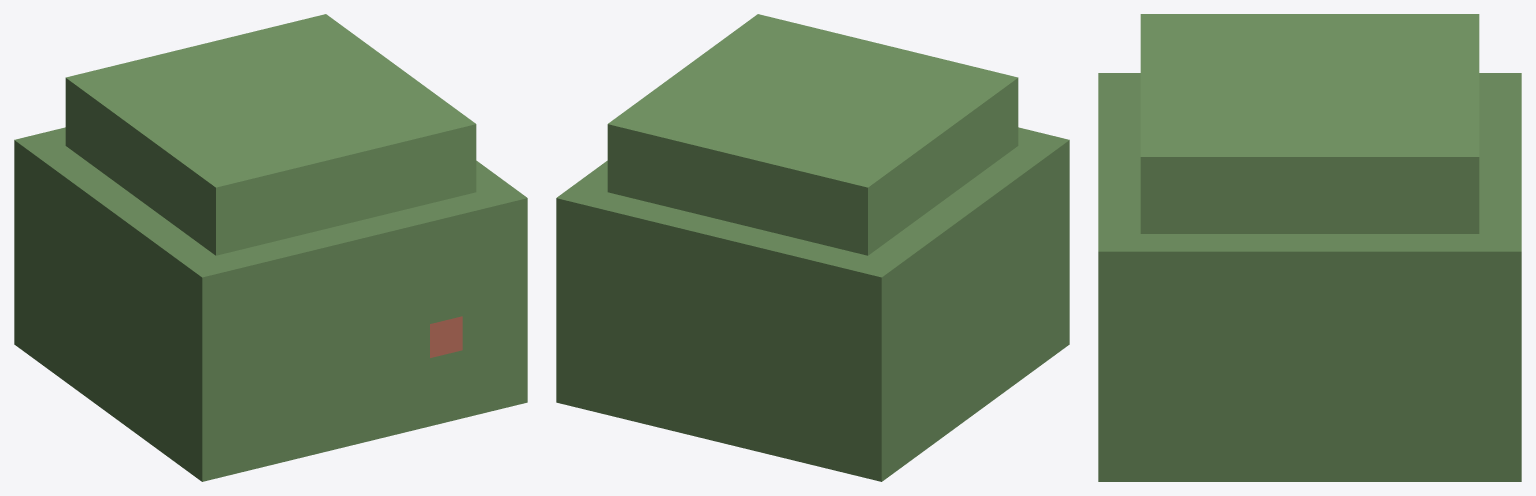
File: escaramujo_03.glb
The picture shows the model from 3 angles, left to right: view 1: azimuth 30°, elevation 25°; view 2: azimuth 150°, elevation 25°; view 3: azimuth 270°, elevation 25°; orthographic projection. The views are drawn at different scales.
Visible parts, largest first — view 1: escaramujo_03; view 2: escaramujo_03; view 3: escaramujo_03.
Boxes of the visible parts, left/top/right/bottom form: escaramujo_03: left=14, top=14, right=527, bottom=481; escaramujo_03: left=556, top=14, right=1069, bottom=481; escaramujo_03: left=1098, top=14, right=1521, bottom=481.
Size of the model in its own units: 1 by 0.8 by 1.
